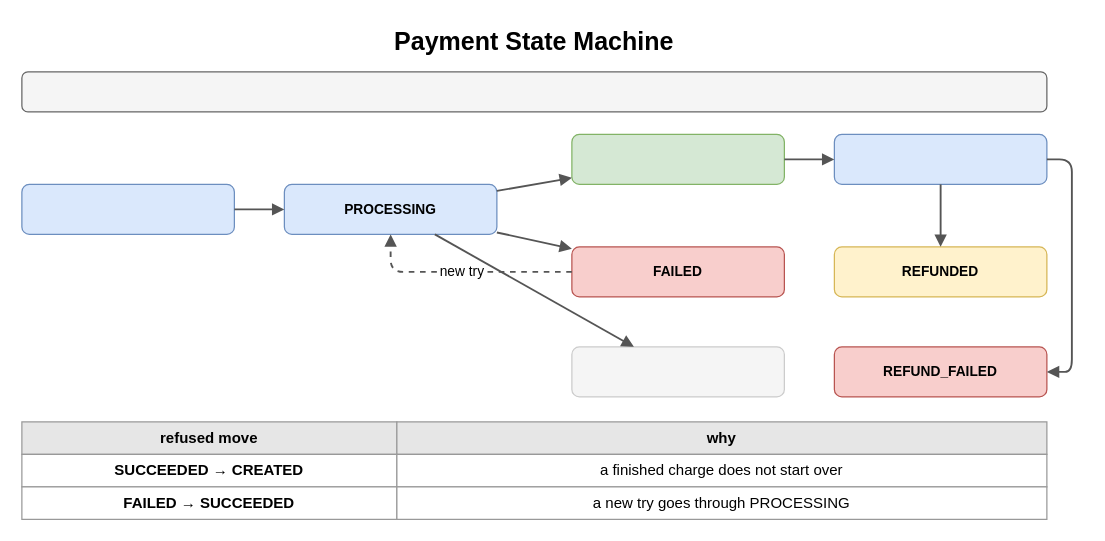
Some shapes in this 1105 by 541 pixel diagram are drawn without their labels. Each missing label, with the centre of its shape:
"CANCELLED" goes at (x=677, y=371).
"CREATED" goes at (x=127, y=208).
"Only listed moves are accepted; each accepted move is appended" goes at (x=534, y=91).
"REFUND_PENDING" goes at (x=940, y=158).
"SUCCEEDED" goes at (x=677, y=158).
